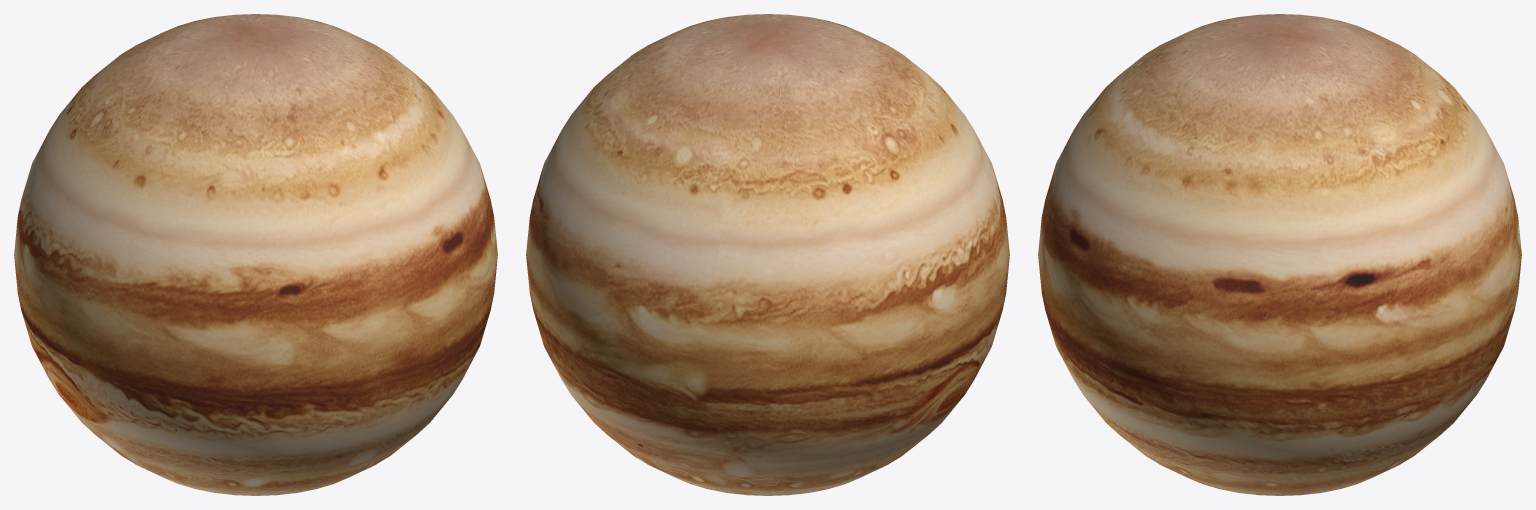
The model's file is Jupiter.FBX.
The picture shows the model from 3 angles, left to right: view 1: azimuth 30°, elevation 25°; view 2: azimuth 150°, elevation 25°; view 3: azimuth 270°, elevation 25°; orthographic projection.
Visible parts, largest first — view 1: Sphere01; view 2: Sphere01; view 3: Sphere01.
Boxes of the visible parts, x1,y1,x2,y2 form: Sphere01: [14, 14, 497, 495]; Sphere01: [526, 14, 1009, 495]; Sphere01: [1038, 14, 1521, 495].
Bounding box in the file's own units: 142984 × 142984 × 142984.
1 material, 1 textured.
